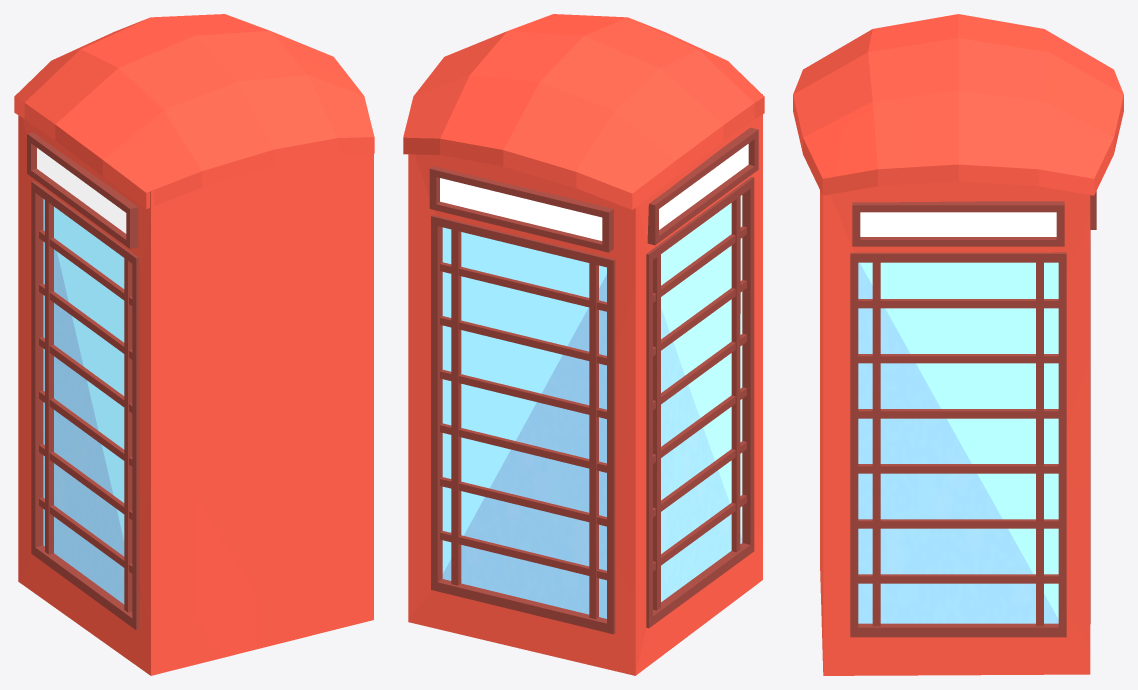
Rendered from phone_box.001.glb.
3 views of the same model, side by side, from view 1: azimuth 30°, elevation 25°; view 2: azimuth 150°, elevation 25°; view 3: azimuth 270°, elevation 25° (orthographic). The views are drawn at different scales.
Visible parts, largest first — view 1: phone_box.001(Clone); view 2: phone_box.001(Clone); view 3: phone_box.001(Clone).
Part boxes in pixels (box(x1,y1,x2,y2)): phone_box.001(Clone): box(14, 14, 374, 675); phone_box.001(Clone): box(403, 14, 764, 675); phone_box.001(Clone): box(793, 14, 1123, 675).
Bounding box in the file's own units: 1.14 × 2.21 × 1.14.
Materials: 1 (1 with a texture image).
